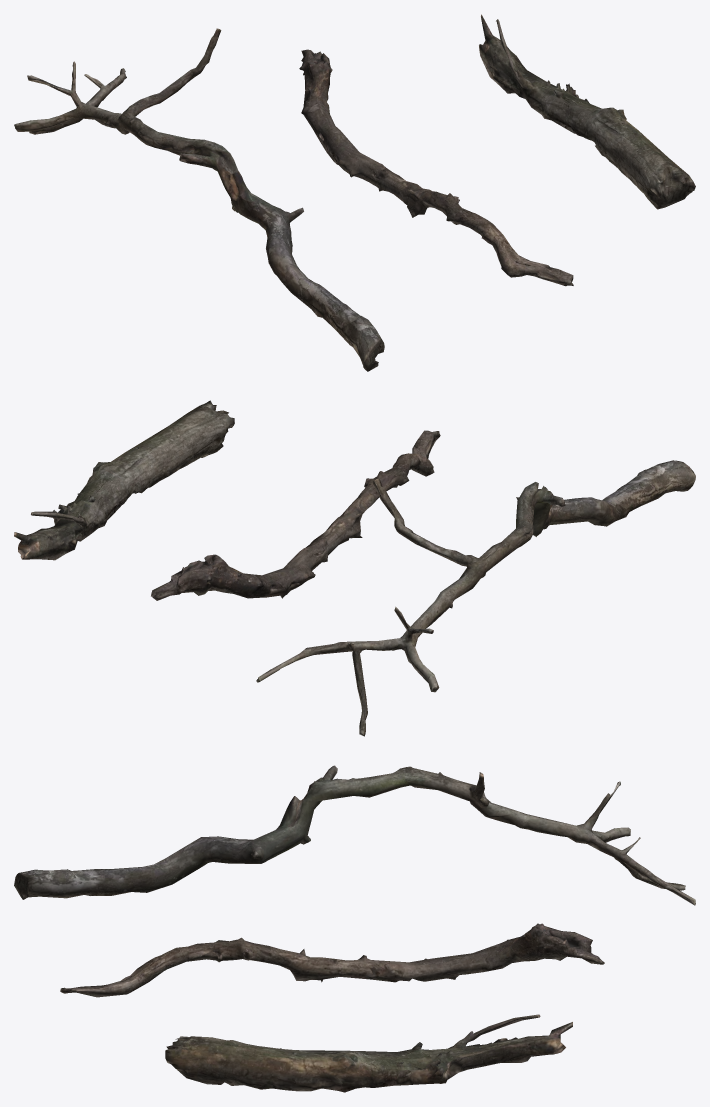
File: branches.glb
3 renders of one model, top to bottom at view 1: azimuth 30°, elevation 25°; view 2: azimuth 150°, elevation 25°; view 3: azimuth 270°, elevation 25°, orthographic. The views are drawn at different scales.
Visible parts, largest first — view 1: dry_branches_medium_01_c; view 2: dry_branches_medium_01_c; view 3: dry_branches_medium_01_c.
Boxes of the visible parts, left/top/right/bottom form: dry_branches_medium_01_c: left=14, top=14, right=695, bottom=371; dry_branches_medium_01_c: left=14, top=400, right=695, bottom=736; dry_branches_medium_01_c: left=14, top=765, right=695, bottom=1092.
Size of the model in its own units: 1.06 by 0.3401 by 1.3.
1 material, 1 textured.
